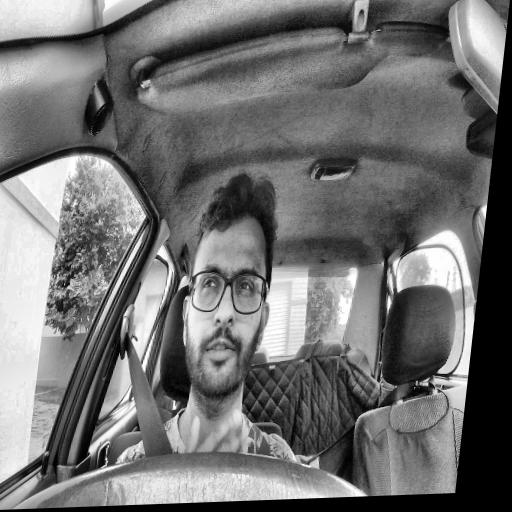awake: (172, 171, 285, 409)
